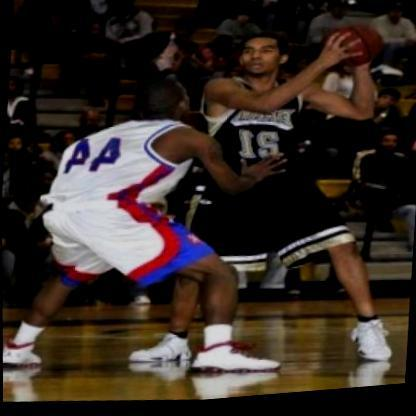basketball: (326, 18, 385, 78)
